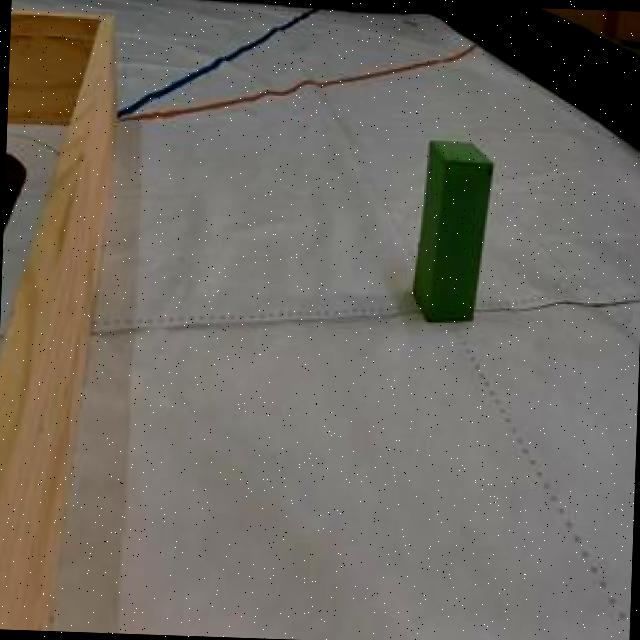greenbox: (413, 137, 495, 322)
